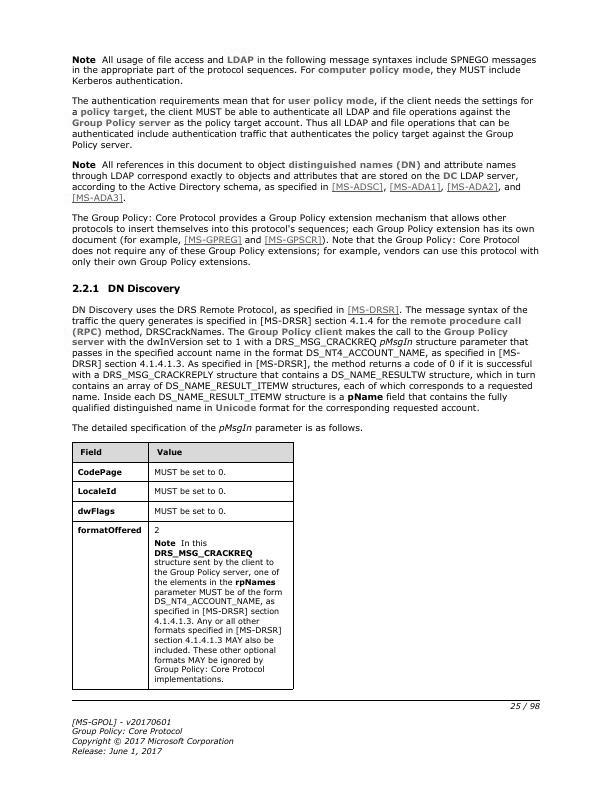table: (72, 441, 294, 689)
text: (69, 302, 539, 412), (68, 93, 535, 151), (69, 211, 539, 268), (70, 159, 522, 206), (69, 53, 539, 88), (69, 714, 235, 759), (68, 421, 367, 433), (69, 280, 182, 297)
